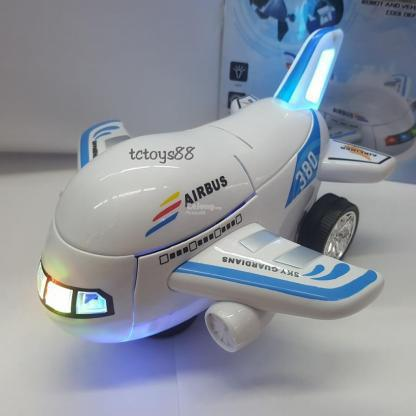CIV_Plane: (28, 26, 396, 367)
